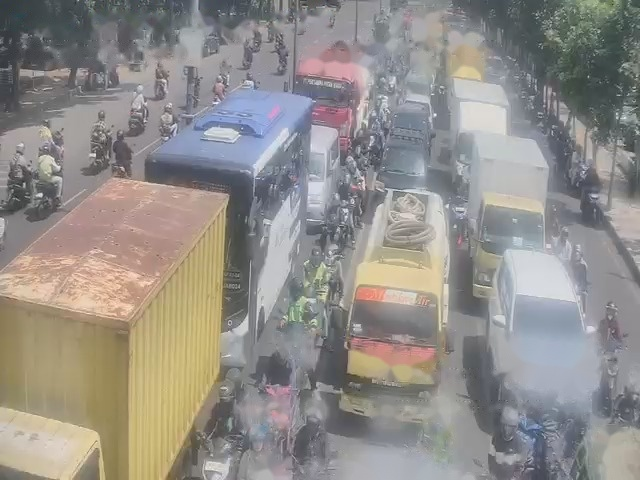Bis: (145, 88, 312, 367)
Mobil: (497, 255, 584, 373), (377, 140, 427, 189)
Motor: (260, 385, 297, 457), (518, 416, 556, 477), (196, 432, 243, 479), (599, 346, 619, 415), (335, 198, 354, 251), (34, 181, 60, 218), (325, 252, 343, 304), (448, 197, 466, 247), (1, 181, 31, 211), (89, 132, 111, 171), (319, 213, 340, 252), (450, 196, 468, 241), (349, 181, 365, 227), (581, 190, 601, 225), (566, 161, 588, 189), (89, 141, 109, 171), (128, 109, 144, 135), (52, 128, 63, 164), (155, 61, 166, 96), (547, 124, 559, 152), (192, 76, 201, 108), (154, 78, 167, 99), (111, 162, 128, 178), (159, 124, 173, 142), (532, 108, 544, 127), (252, 28, 261, 52), (277, 56, 287, 74), (387, 74, 396, 94), (267, 20, 275, 42), (220, 72, 230, 88), (242, 54, 252, 69), (287, 9, 296, 22), (329, 9, 335, 27), (212, 95, 220, 106)
Truk: (5, 165, 225, 475), (350, 191, 447, 431), (295, 40, 373, 153), (477, 137, 546, 262)
